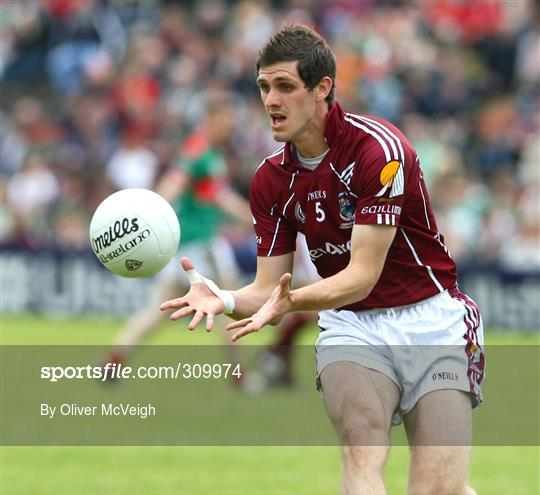ball: (88, 184, 196, 281)
player: (209, 17, 499, 484)
